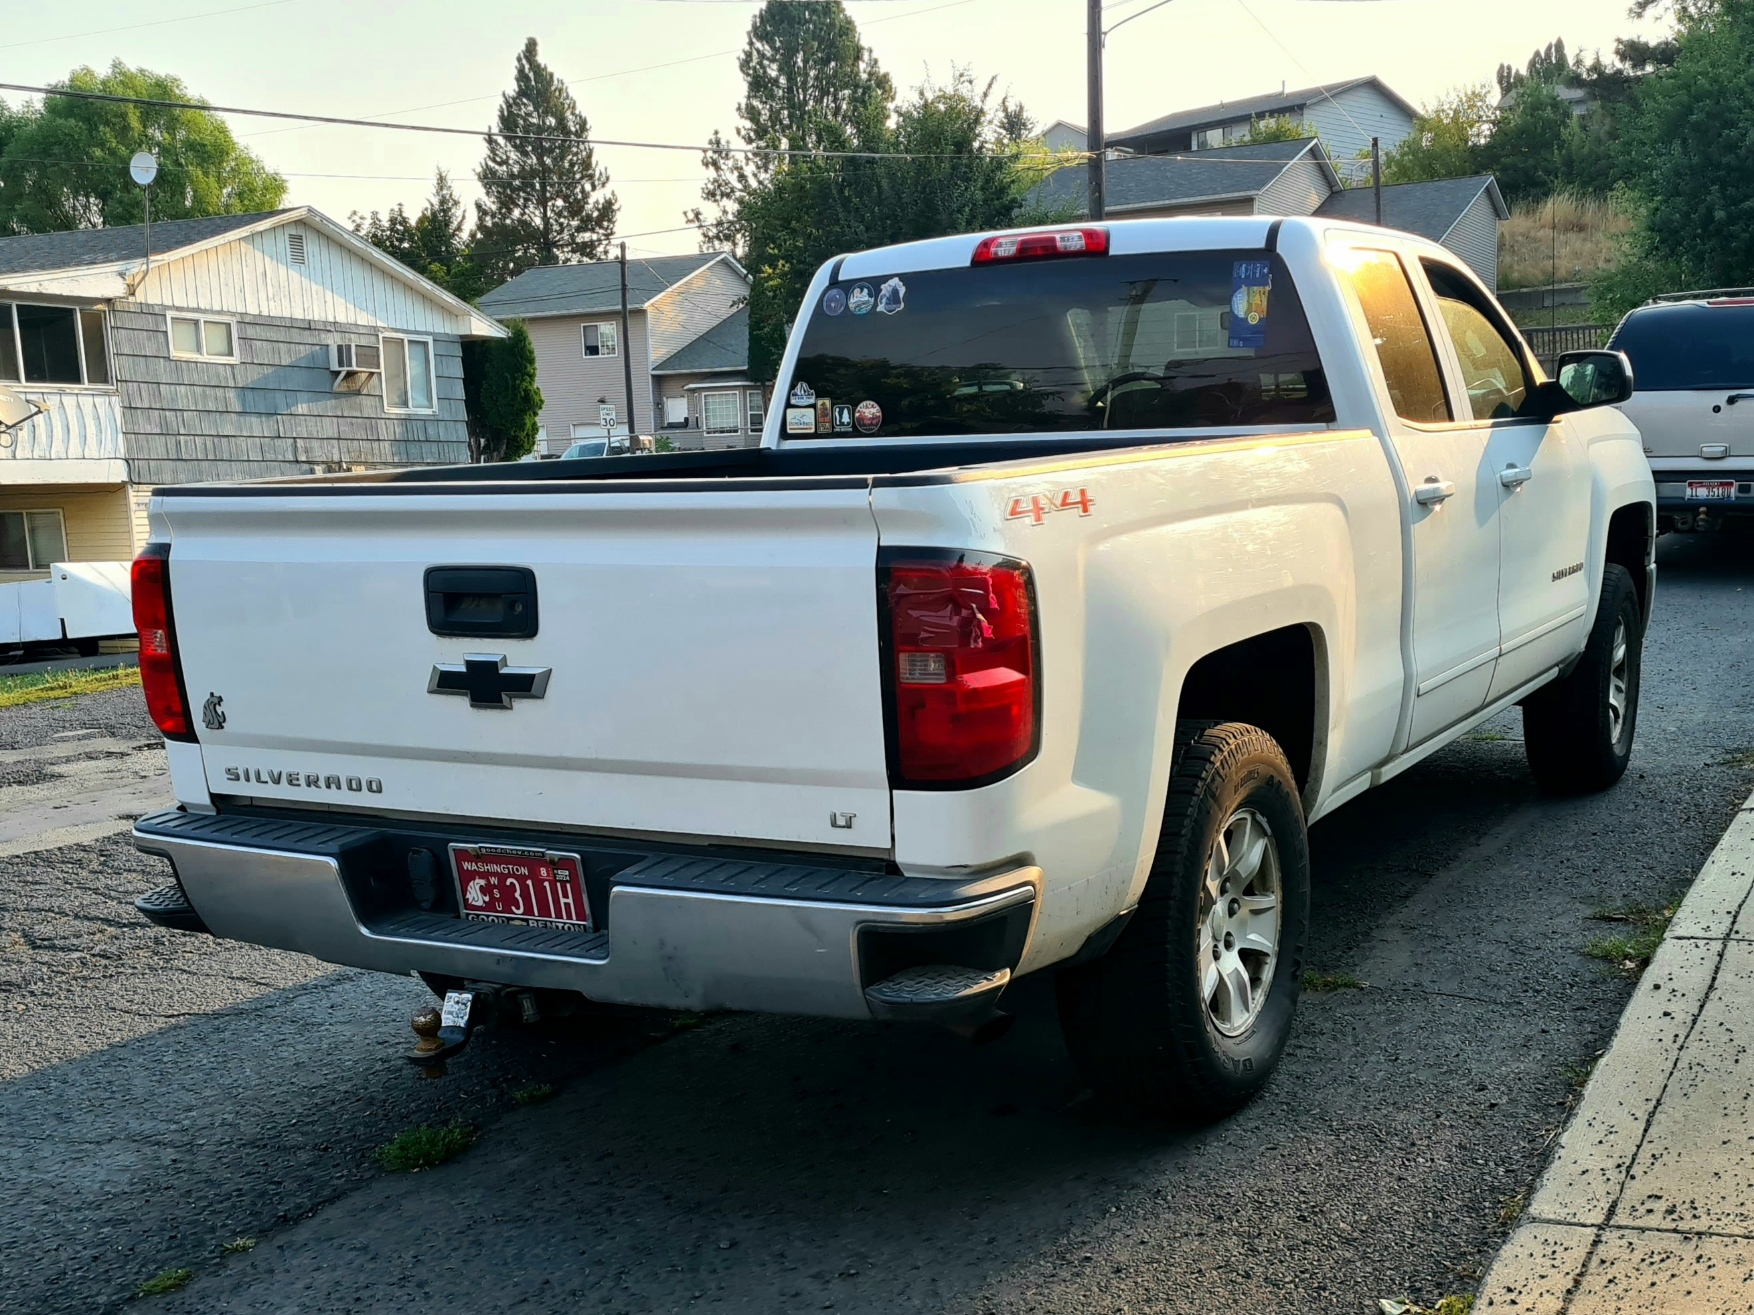license plate: (447, 858, 590, 926)
